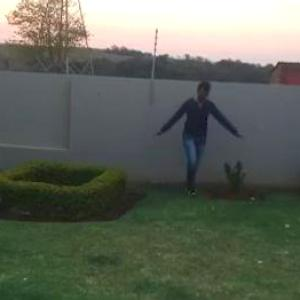land: (153, 76, 243, 202)
